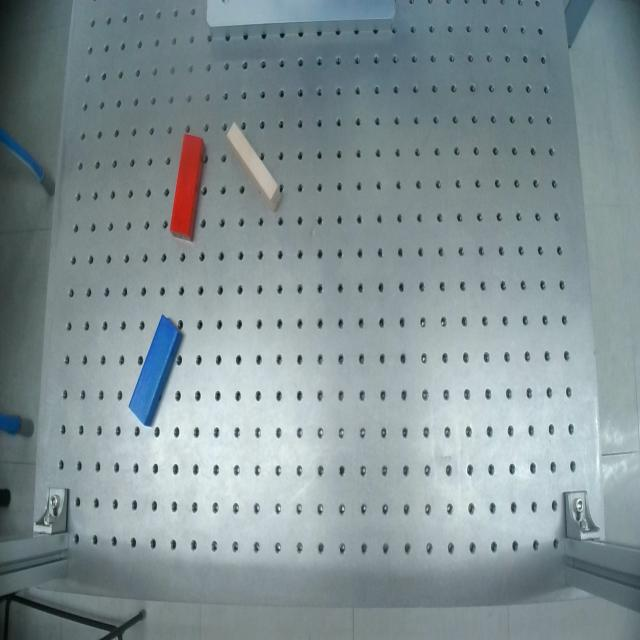blue: (124, 314, 188, 428)
red: (169, 133, 207, 242)
wood: (218, 121, 289, 213)
